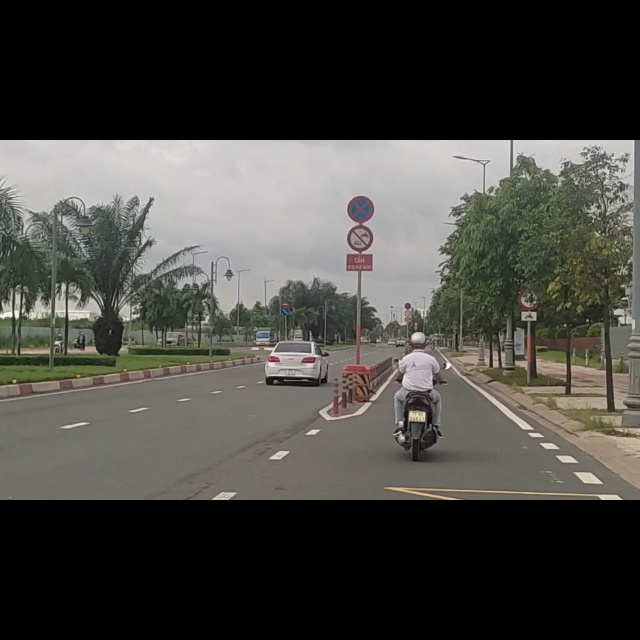bien_cam: (345, 95, 375, 147), (345, 152, 375, 197)
